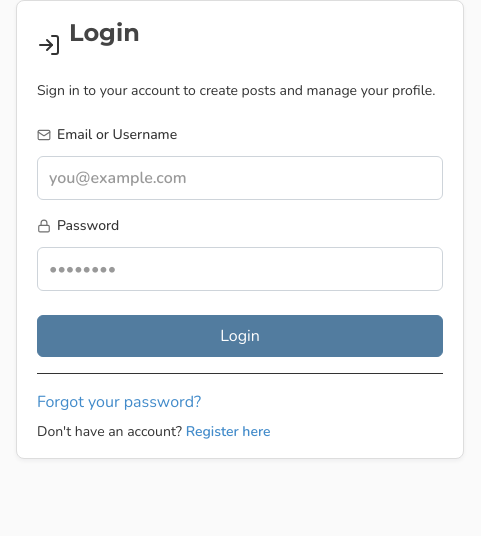
Scenario: app/login/page › shows error feedback when login fails
Type "wrong@example.com" into the field with placeholder "you@example.com".
click(240, 178); type("wrong@example.com")  # box 37,156 -> 443,200
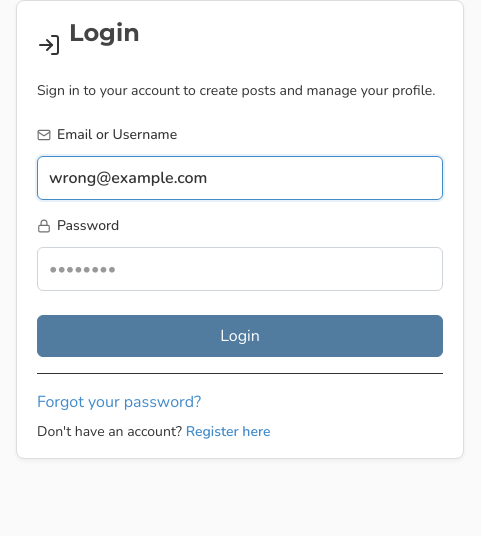
Type "wrongpass" into the password field with placeholder "••••••••".
click(240, 269); type("wrongpass")  # box 37,247 -> 443,291
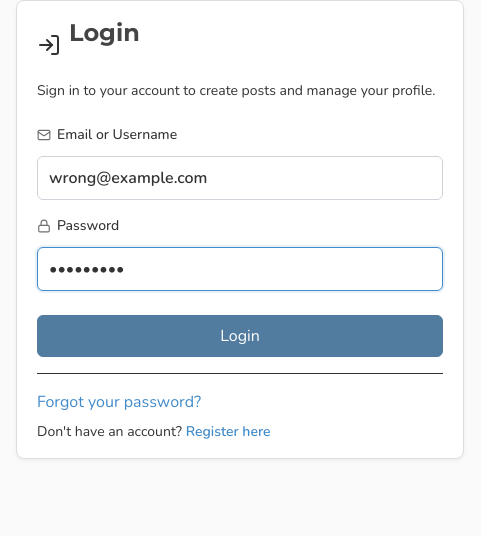
Click the button "Login".
click(240, 336)  # box 37,315 -> 443,357
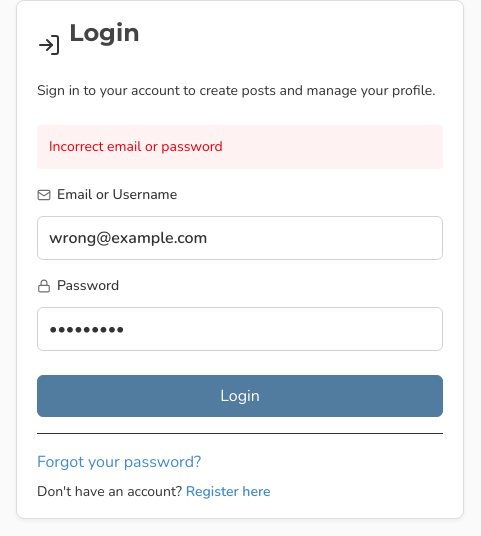
Check: the text "Incorrect email or password" is shown, box 37,125 -> 443,169
